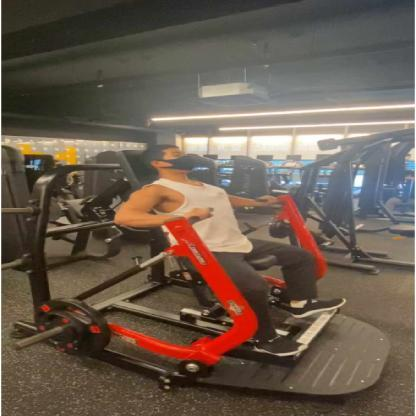Chest Press machine: (2, 136, 405, 404)
